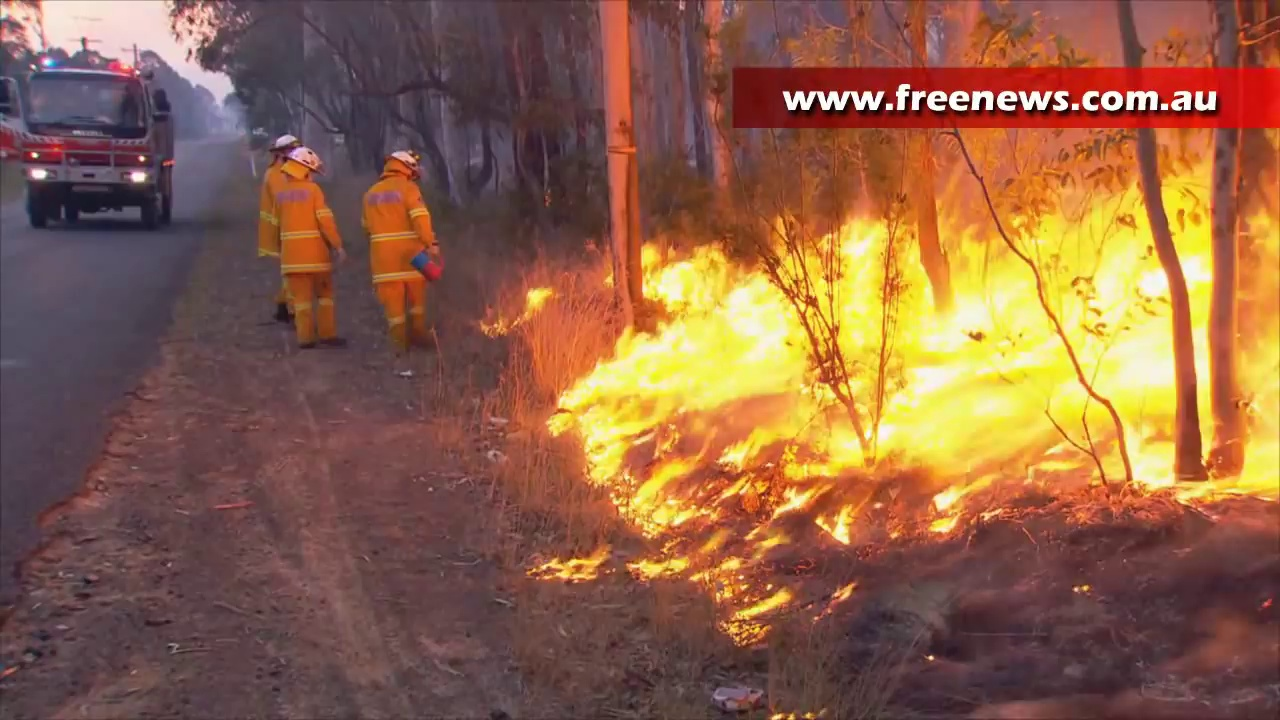fire: (548, 173, 1212, 525), (669, 533, 786, 645), (1232, 220, 1280, 488), (523, 546, 606, 586)
